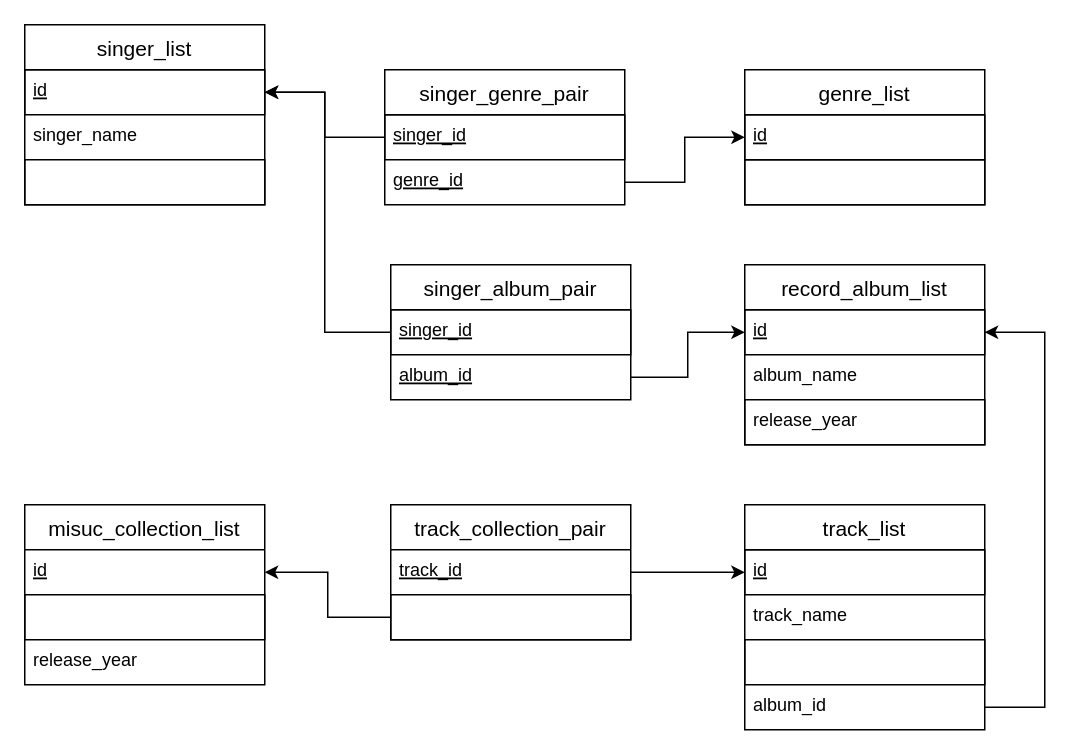
Some shapes in this 1070 by 755 pixel diagram are drawn without their labels. Each missing label, with the centre of its shape:
"collection_id" belongs at [510,616].
"collection_name" belongs at [144,616].
"genre_name" belongs at [864,181].
"singer_alias" belongs at [144,181].
"track_length" belongs at [864,661].
